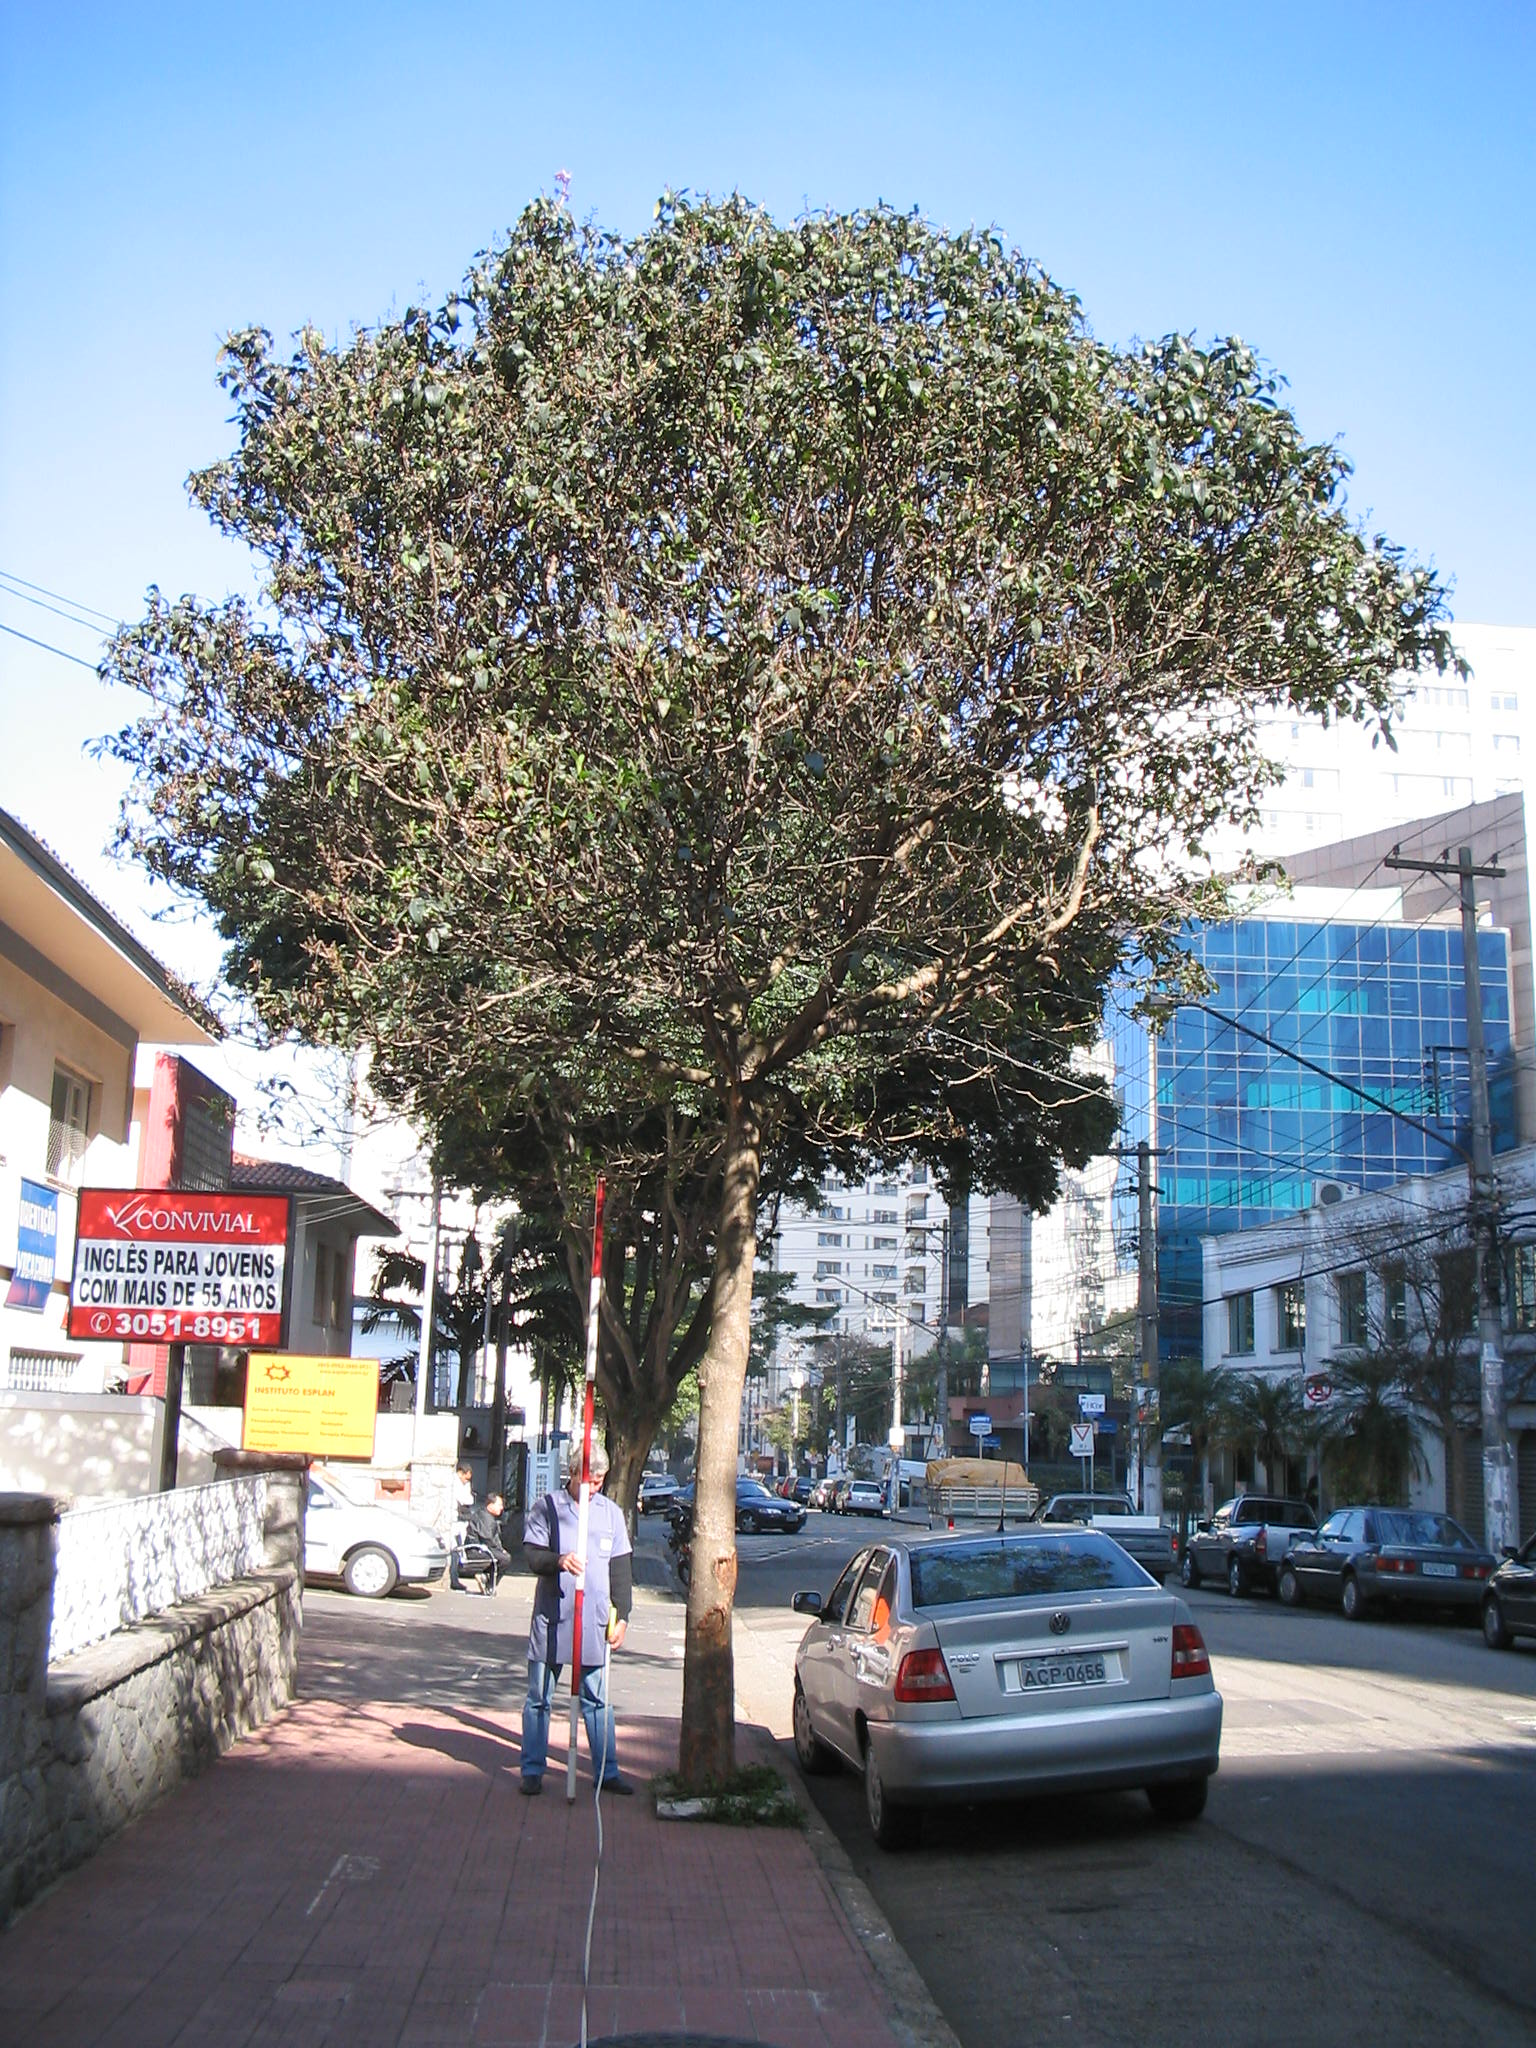crown: (82, 166, 1480, 1055)
stem: (666, 1129, 799, 1796)
stick: (541, 1179, 650, 1800)
tree: (81, 161, 1480, 1800)
